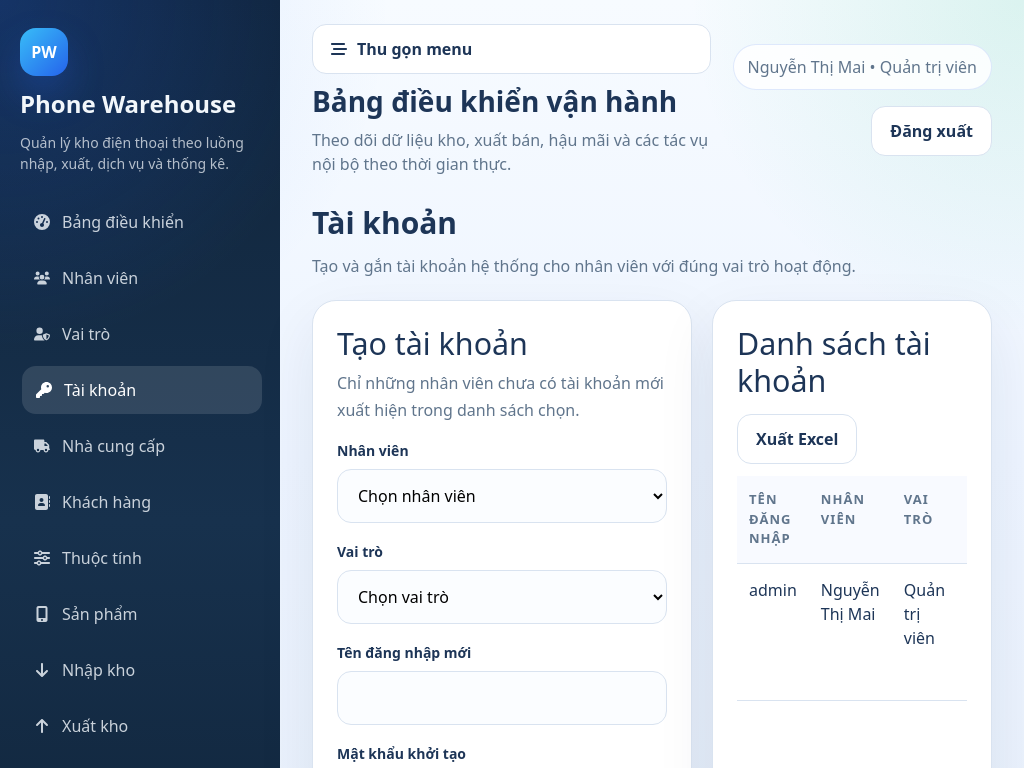
Admin pages › loads accounts and creates a new account linked to employee and role
This screenshot has width=1024, height=768.
Expected: the text "admin" is shown, x1=737 y1=563 x2=809 y2=700
Select "EMP010 - Phạm Minh Dũng" in the dropdown labelled "Nhân viên" at (502, 496), box x1=337 y1=469 x2=667 y2=523
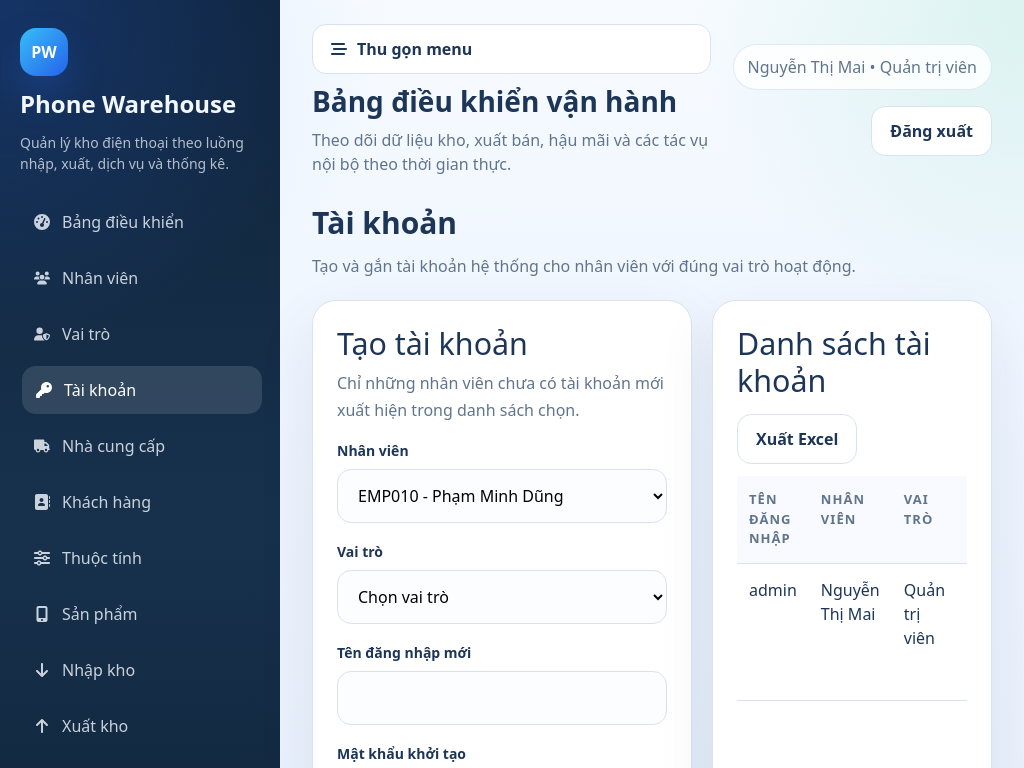
Select "Quản lý kho" in the dropdown labelled "Vai trò" at (502, 597), box x1=337 y1=570 x2=667 y2=624
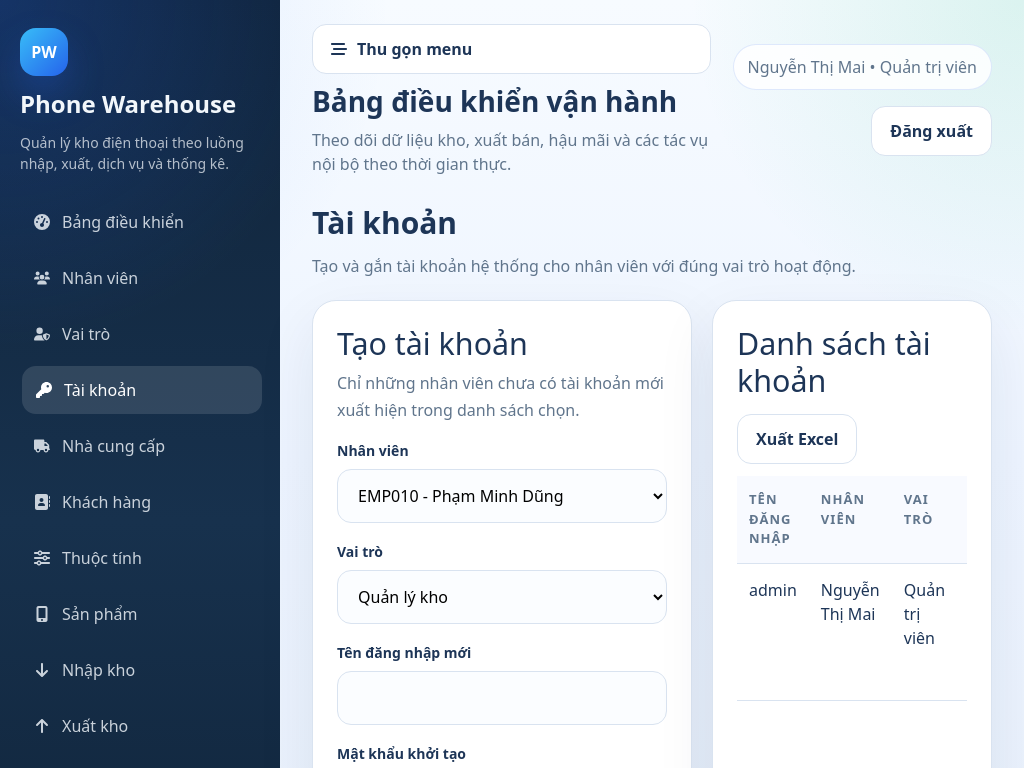
Type "dungpm" into the field labelled "Tên đăng nhập mới" at (502, 698), box x1=337 y1=671 x2=667 y2=725
(page scrolled)
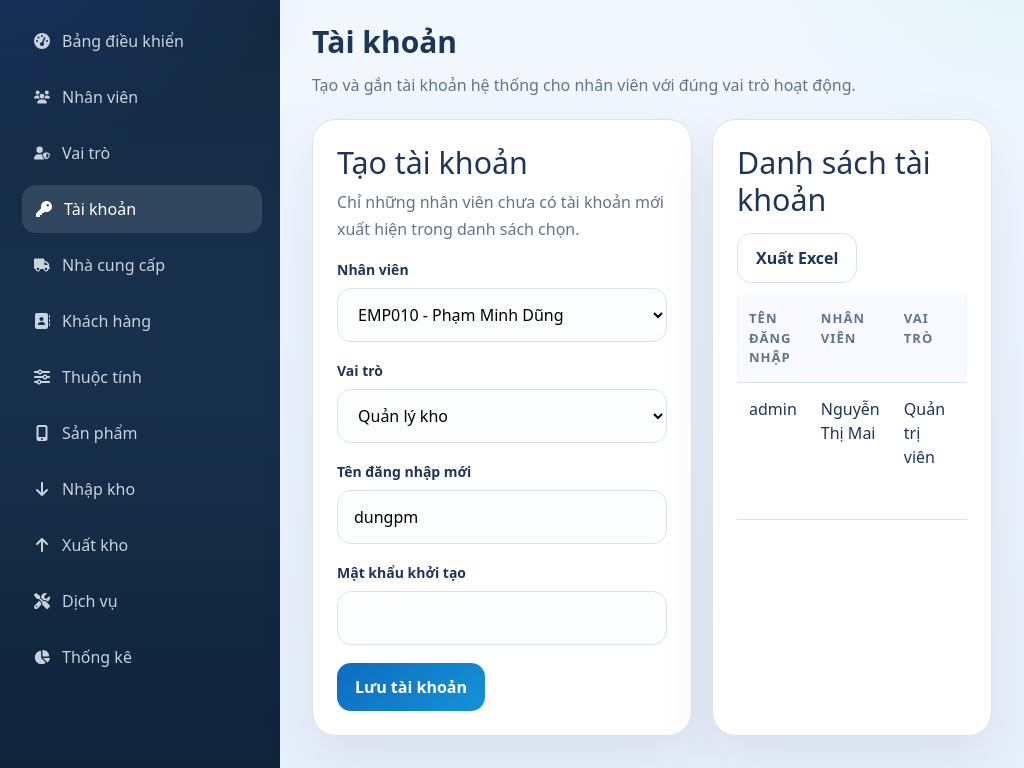
Type "123456" into the password field labelled "Mật khẩu khởi tạo" at (502, 618), box x1=337 y1=591 x2=667 y2=645
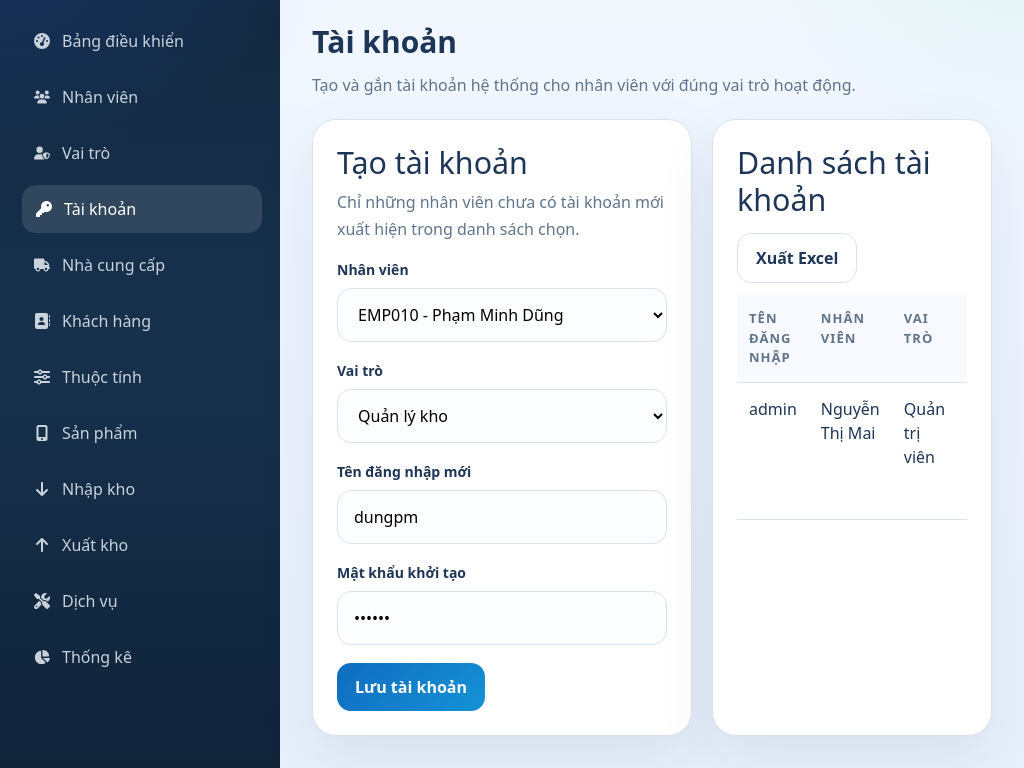
Click the button "Lưu tài khoản" at (411, 687), box x1=337 y1=663 x2=485 y2=711
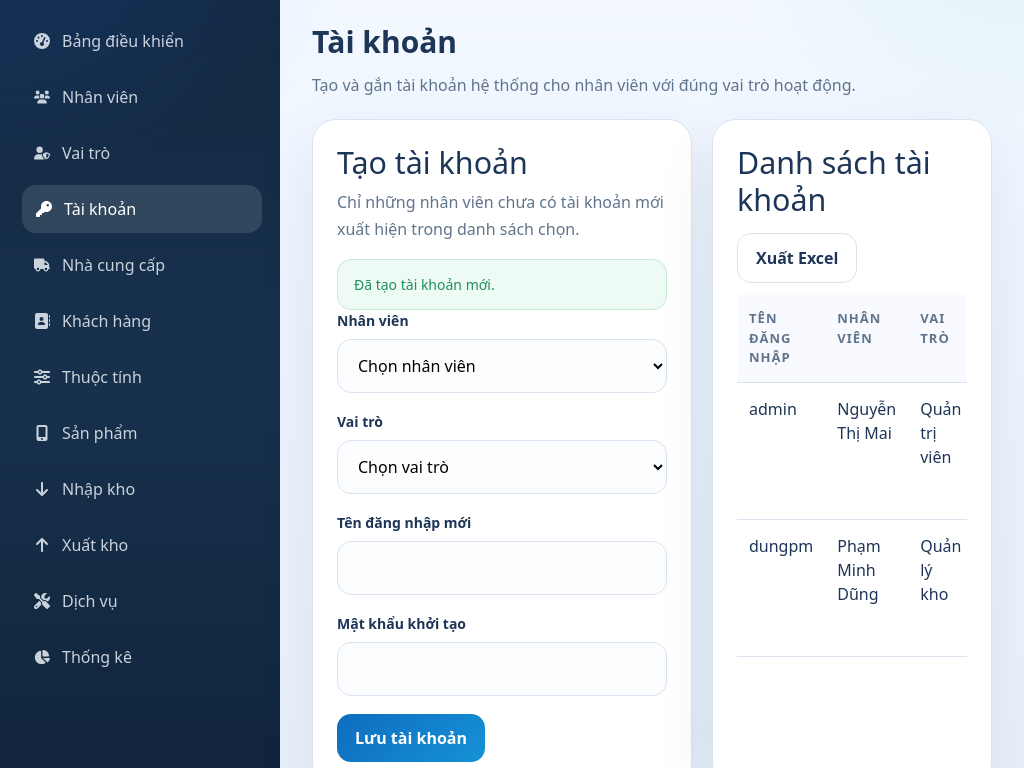
Expected: the text "dungpm" is shown, x1=737 y1=519 x2=825 y2=656
